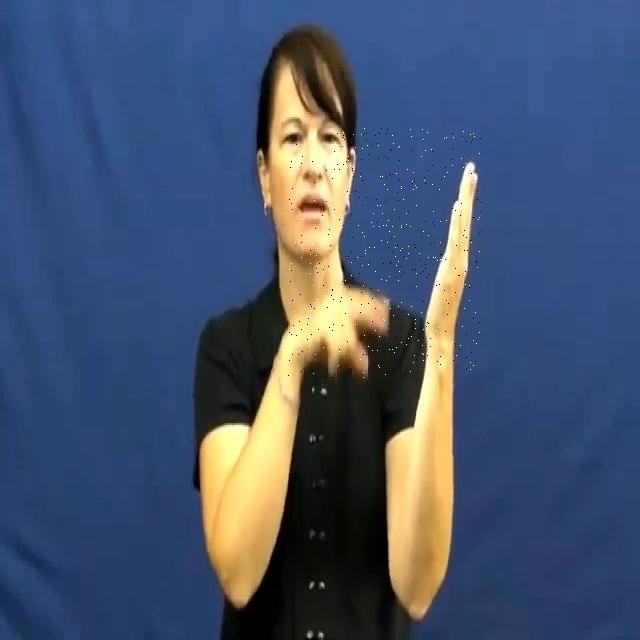menu: (288, 128, 482, 378)
